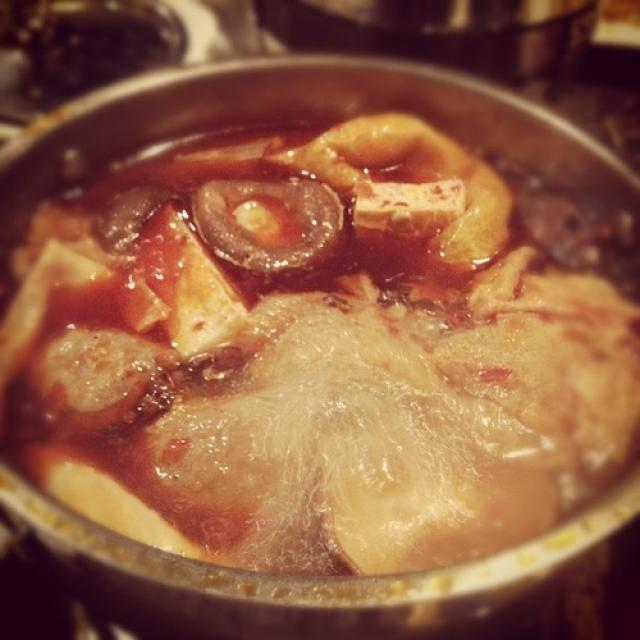汤锅炖物: (9, 42, 623, 596)
